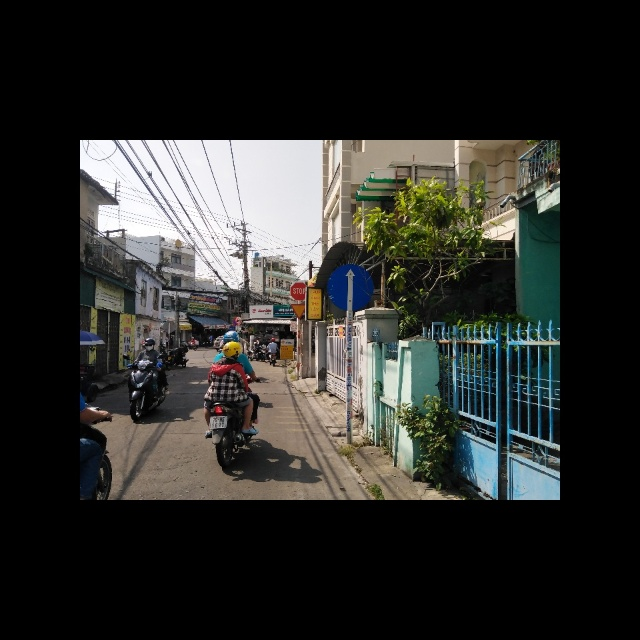Dừng lại: (290, 281, 306, 300)
Giao nhau với đường ưu tiên: (289, 304, 305, 322)
Đường một chiều: (327, 266, 374, 313)
